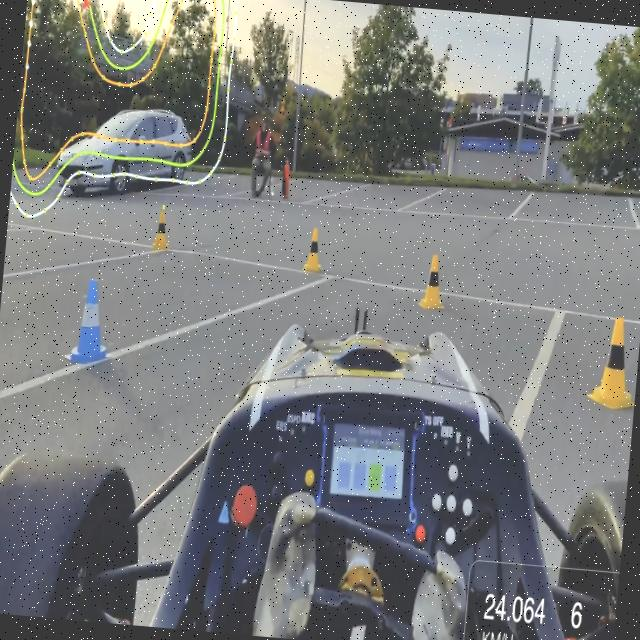blue_cone: (64, 276, 115, 367)
yellow_cone: (585, 316, 640, 411), (419, 252, 448, 310), (303, 227, 325, 272), (152, 206, 172, 248)
